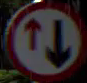Two way: (6, 0, 85, 82)
